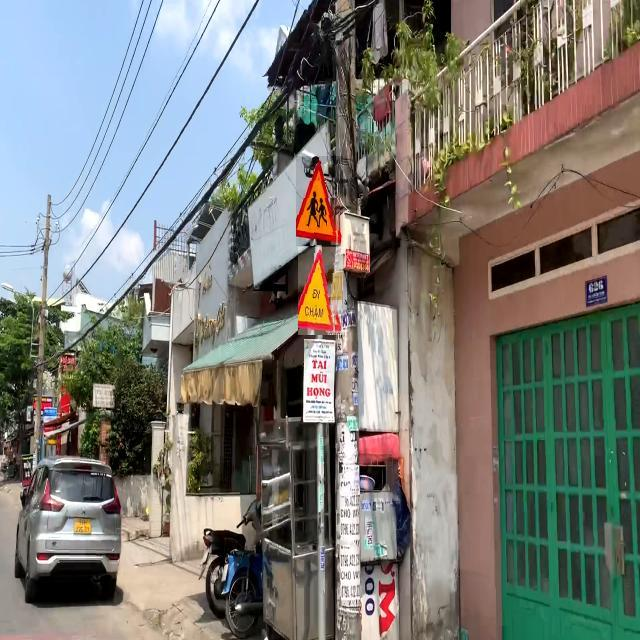W-225: (296, 156, 343, 246)
W-245a: (298, 247, 343, 335)
